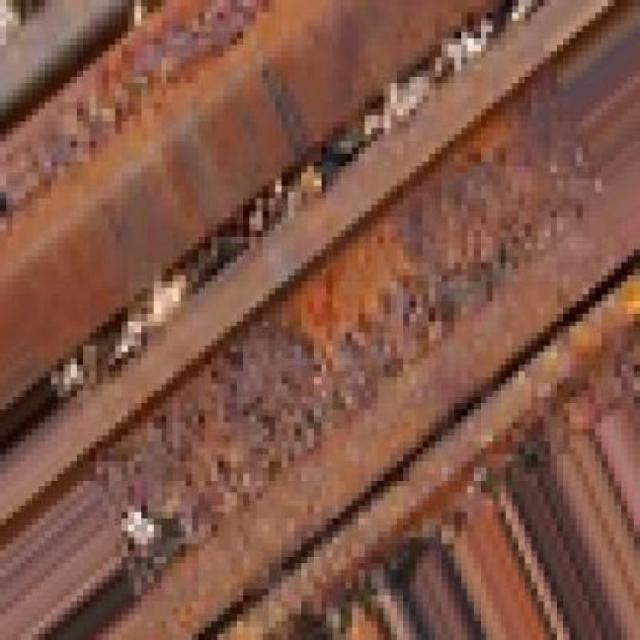defective: (4, 17, 636, 634)
